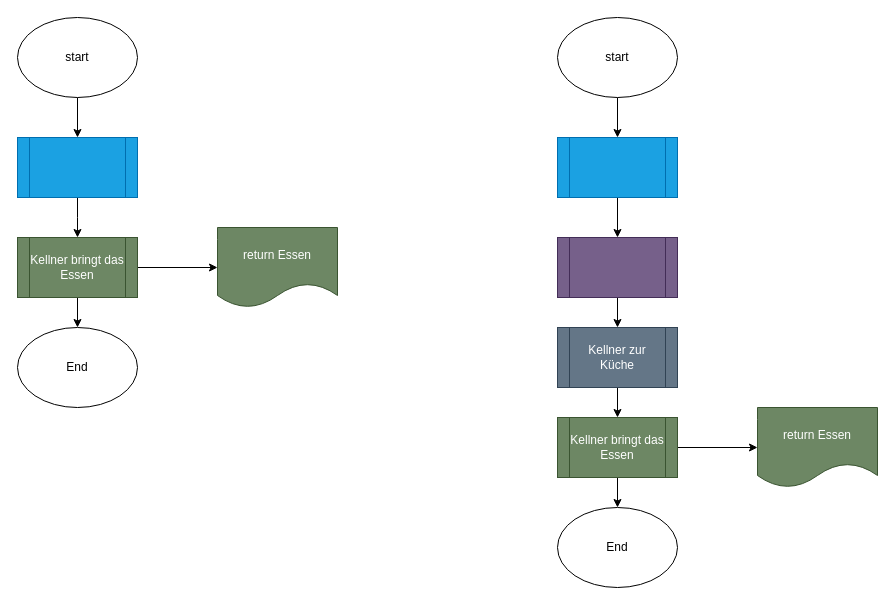
This 895x605 diagram has some shape labels left out. The box of each missing label's shape, as (x1, y1, x2, y2) in pixels:
Kellner nimmt Bestellung auf: (556, 236, 678, 298)
Kunde bestellt: (556, 136, 678, 198)
Kunde bestellt (ruf Kellner): (16, 136, 138, 198)
